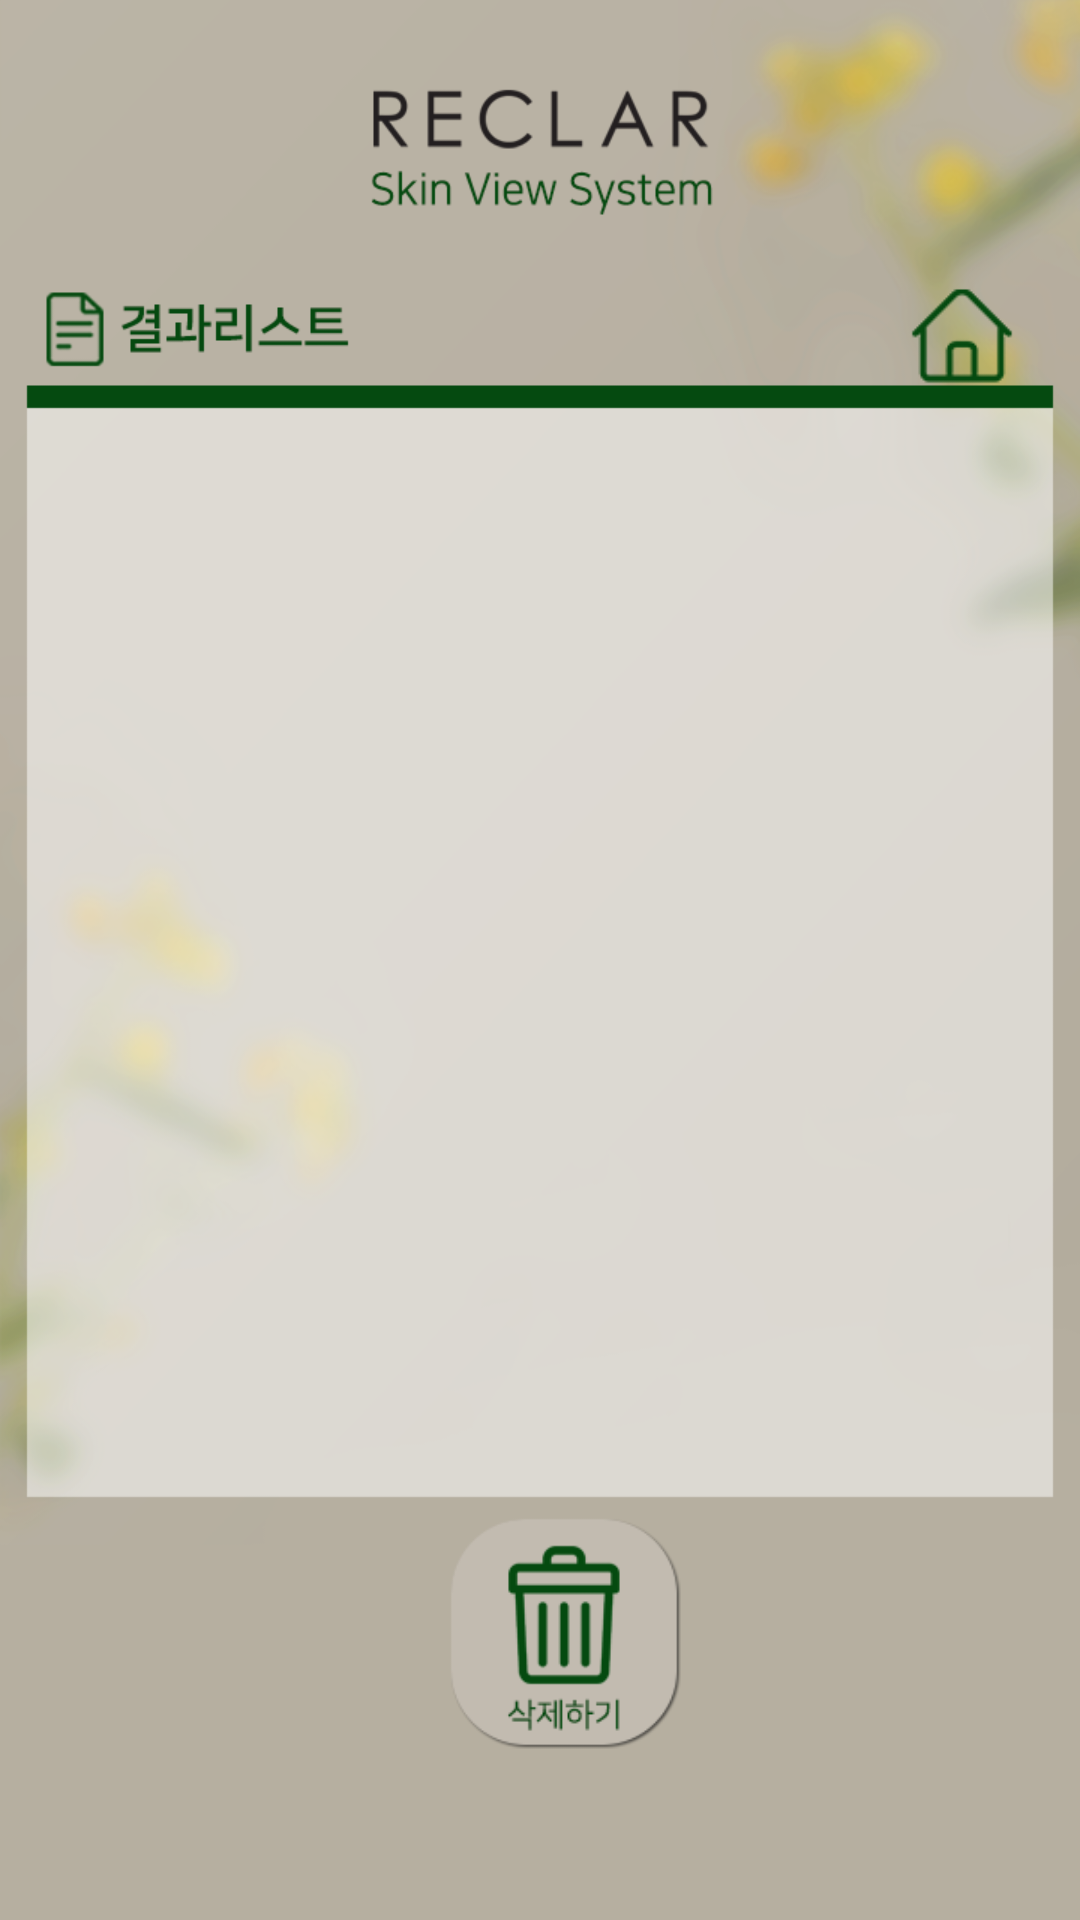

Icons on this 1080x1920 Android screen, each with its box as (x1, y1, x2, y2):
home: (902, 275, 1022, 395)
